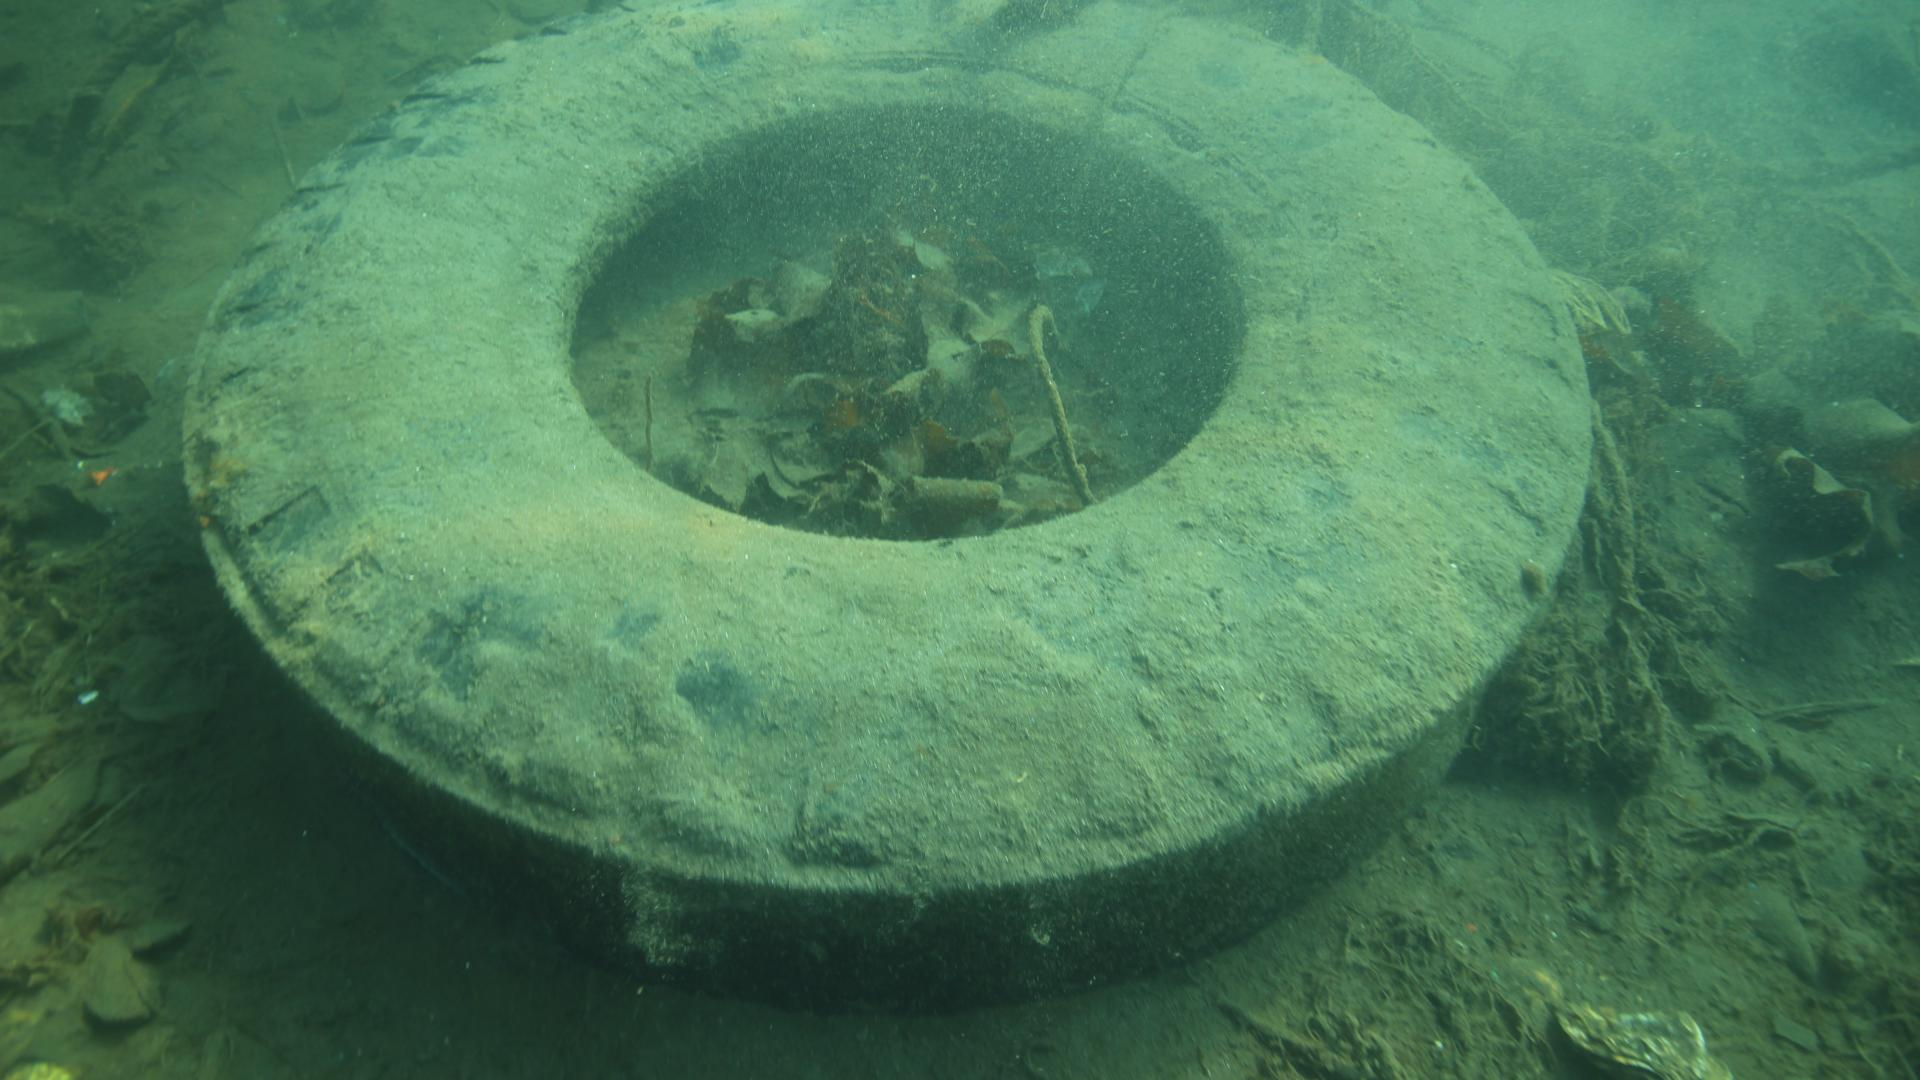rope: (53, 0, 222, 171)
tire: (179, 0, 1596, 1007)
